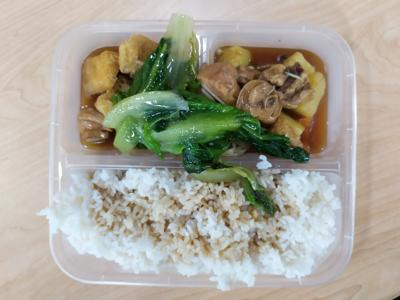jrtd: (216, 43, 345, 153)
rice: (61, 168, 348, 279)
ymc: (120, 23, 281, 166)
